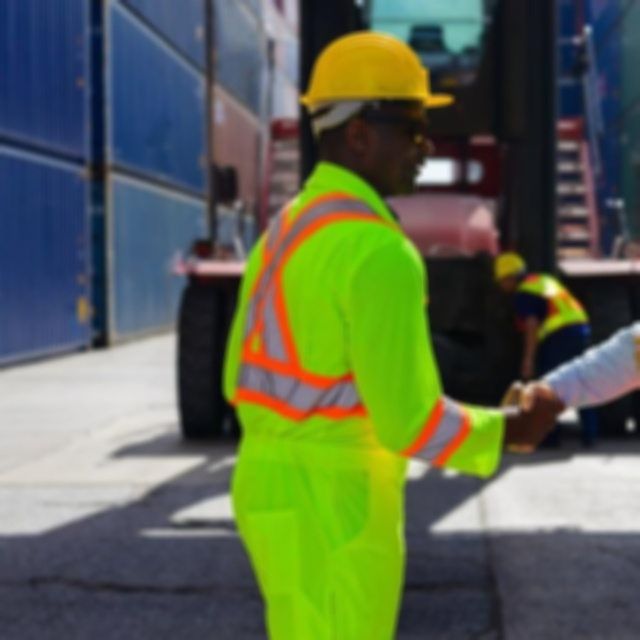Con_Casco: (302, 30, 457, 187)
Con_Chaleco: (234, 194, 446, 451), (520, 271, 591, 347)
